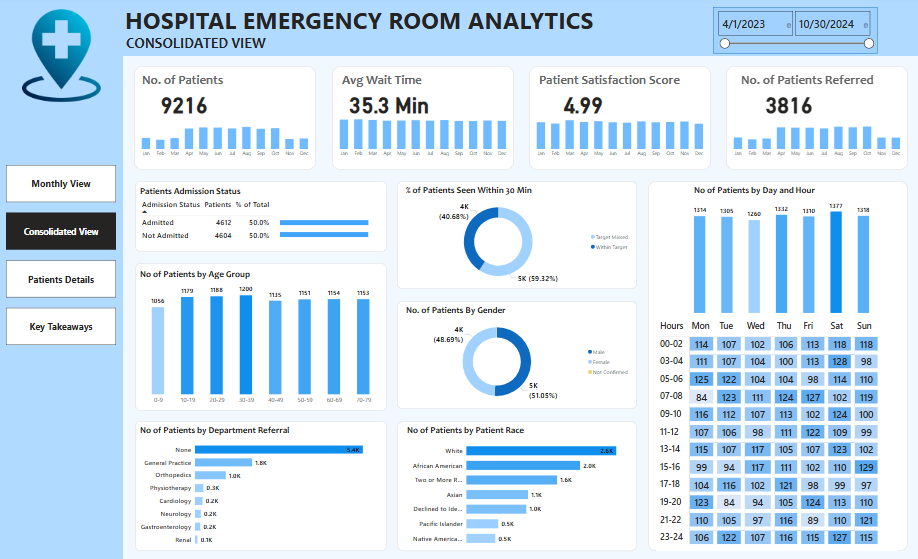

This screenshot's page, from the dashboard's own definition file:
{"tool":"powerbi","page":{"name":"Consolidated View","canvas":[2300,1400],"ordinal":1},"visuals":[{"type":"shape","box":[338.6,164.3,455,260],"z":0},{"type":"shape","box":[0,0,310,1400],"z":1000},{"type":"shape","box":[310.8,0,1988,140],"z":2000},{"type":"textbox","box":[310.8,5.6,1313.2,95.2],"z":3000},{"type":"textbox","box":[313.3,80,383.3,60],"z":4000},{"type":"card","fields":{"Values":["Hospital ER_Data.No of Patients"]},"box":[392.5,220,140,75],"z":5000},{"type":"slicer","fields":{"Values":["Date Table.Date"]},"box":[1786,18,412,116],"z":6000},{"type":"textbox","box":[352.5,175,230,50],"z":8000},{"type":"columnChart","fields":{"Category":["Date Table.Month Name"],"Y":["Hospital ER_Data.No of Patients"]},"box":[338.6,278.6,455,125],"z":9000},{"type":"shape","box":[831.5,164.5,455,260],"z":11000},{"type":"shape","box":[1324.5,164.8,455,260],"z":12000},{"type":"shape","box":[1817.5,165,455,260],"z":13000},{"type":"textbox","box":[852.5,175,230,50],"z":14000},{"type":"shape","box":[340,452.5,630,177.5],"z":15000},{"type":"textbox","box":[1345,175,390,50],"z":16000},{"type":"textbox","box":[1850,175,390,50],"z":17000},{"type":"card","fields":{"Values":["Hospital ER_Data.Avg Wait Time"]},"box":[867.5,220,215,75],"z":18000},{"type":"card","fields":{"Values":["Hospital ER_Data.Satisfaction Score"]},"box":[1390,220,140,75],"z":19000},{"type":"card","fields":{"Values":["Hospital ER_Data.No of Patients Referred"]},"box":[1905,220,140,75],"z":20000},{"type":"columnChart","fields":{"Category":["Date Table.Month Name"],"Y":["Avg(Hospital ER_Data.Patient Waittime)"]},"box":[832.5,277.5,455,125],"z":21000},{"type":"columnChart","fields":{"Y":["Hospital ER_Data.Satisfaction Score"],"Category":["Date Table.Month Name"]},"box":[1325,277.5,455,125],"z":22000},{"type":"columnChart","fields":{"Category":["Date Table.Month Name"],"Y":["Hospital ER_Data.No of Patients Referred"]},"box":[1817.5,277.5,455,125],"z":23000},{"type":"pivotTable","title":"Patients Admission Status","fields":{"Rows":["Hospital ER_Data.Admission Status"],"Values":["Hospital ER_Data.No of Patients1","Hospital ER_Data.No of Patients"]},"box":[347.5,462.5,620,167.5],"z":24000},{"type":"barChart","fields":{"Category":["Hospital ER_Data.Admission Status"],"Y":["Hospital ER_Data.No of Patients"]},"box":[697.5,522.5,297.5,92.5],"z":25000},{"type":"shape","box":[340,657.5,630,370],"z":26000},{"type":"clusteredColumnChart","fields":{"Category":["Hospital ER_Data.Age Group"],"Y":["Hospital ER_Data.No of Patients"]},"box":[347.5,670,615,350],"z":27000},{"type":"shape","box":[340,1052.5,630,325],"z":28000},{"type":"clusteredBarChart","fields":{"Y":["Hospital ER_Data.No of Patients"],"Category":["Hospital ER_Data.Department Referral"]},"box":[347.5,1060,595,317.5],"z":29000},{"type":"shape","box":[995,452.5,600,270],"z":30000},{"type":"donutChart","title":"% of Patients Seen Within 30 Min","fields":{"Category":["Hospital ER_Data.Waittime Status"],"Y":["Hospital ER_Data.No of Patients"]},"box":[1013.3,460,575,260],"z":31000},{"type":"shape","box":[995,751.7,600,270],"z":32000},{"type":"donutChart","title":"No. of Patients By Gender","fields":{"Y":["Hospital ER_Data.No of Patients"],"Category":["Hospital ER_Data.Patient Gender"]},"box":[1013.3,760,575,260],"z":33000},{"type":"shape","box":[996,1052,600,326],"z":34000},{"type":"clusteredBarChart","fields":{"Y":["Hospital ER_Data.No of Patients"],"Category":["Hospital ER_Data.Patient Race"]},"box":[1014,1060,562,318],"z":35000},{"type":"shape","box":[1622.5,452.5,650,925],"z":36000},{"type":"pivotTable","fields":{"Rows":["Hospital ER_Data.Waittime Interval"],"Columns":["Date Table.Day Name"],"Values":["Hospital ER_Data.No of Patients"]},"box":[1643.3,793.3,605,585],"z":37000},{"type":"columnChart","title":"No of Patients by Day  and Hour","fields":{"Y":["Hospital ER_Data.No of Patients"],"Category":["Date Table.Day Name"]},"box":[1733.3,460,450,328.3],"z":38000},{"type":"image","box":[36.7,23.3,236.7,233.3],"z":39000},{"type":"pageNavigator","box":[17.5,412.5,275,452.5],"z":39001}]}

Visuals, with their boxes in screenshot pixels (x1, y1, x2, y2), scaled from the page's 2300x1400 canvas onto the 918x559 screenshot:
shape: 135,66,317,169
shape: 0,0,124,558
shape: 124,0,917,56
textbox: 124,2,648,40
textbox: 125,32,278,56
card - Hospital ER_Data.No of Patients: 157,88,213,118
slicer - Date Table.Date: 713,7,877,54
textbox: 141,70,232,90
columnChart - Date Table.Month Name x Hospital ER_Data.No of Patients: 135,111,317,161
shape: 332,66,513,169
shape: 529,66,710,170
shape: 725,66,907,170
textbox: 340,70,432,90
shape: 136,181,387,252
textbox: 537,70,692,90
textbox: 738,70,894,90
card - Hospital ER_Data.Avg Wait Time: 346,88,432,118
card - Hospital ER_Data.Satisfaction Score: 555,88,611,118
card - Hospital ER_Data.No of Patients Referred: 760,88,816,118
columnChart - Date Table.Month Name x Avg(Hospital ER_Data.Patient Waittime): 332,111,514,161
columnChart - Hospital ER_Data.Satisfaction Score x Date Table.Month Name: 529,111,710,161
columnChart - Date Table.Month Name x Hospital ER_Data.No of Patients Referred: 725,111,907,161
"Patients Admission Status" pivotTable: 139,185,386,252
barChart - Hospital ER_Data.Admission Status x Hospital ER_Data.No of Patients: 278,209,397,246
shape: 136,263,387,410
clusteredColumnChart - Hospital ER_Data.Age Group x Hospital ER_Data.No of Patients: 139,268,384,407
shape: 136,420,387,550
clusteredBarChart - Hospital ER_Data.No of Patients x Hospital ER_Data.Department Referral: 139,423,376,550
shape: 397,181,637,288
"% of Patients Seen Within 30 Min" donutChart: 404,184,634,287
shape: 397,300,637,408
"No. of Patients By Gender" donutChart: 404,303,634,407
shape: 398,420,637,550
clusteredBarChart - Hospital ER_Data.No of Patients x Hospital ER_Data.Patient Race: 405,423,629,550
shape: 648,181,907,550
pivotTable - Hospital ER_Data.Waittime Interval x Date Table.Day Name: 656,317,897,550
"No of Patients by Day  and Hour" columnChart: 692,184,871,315
image: 15,9,109,102
pageNavigator: 7,165,117,345
